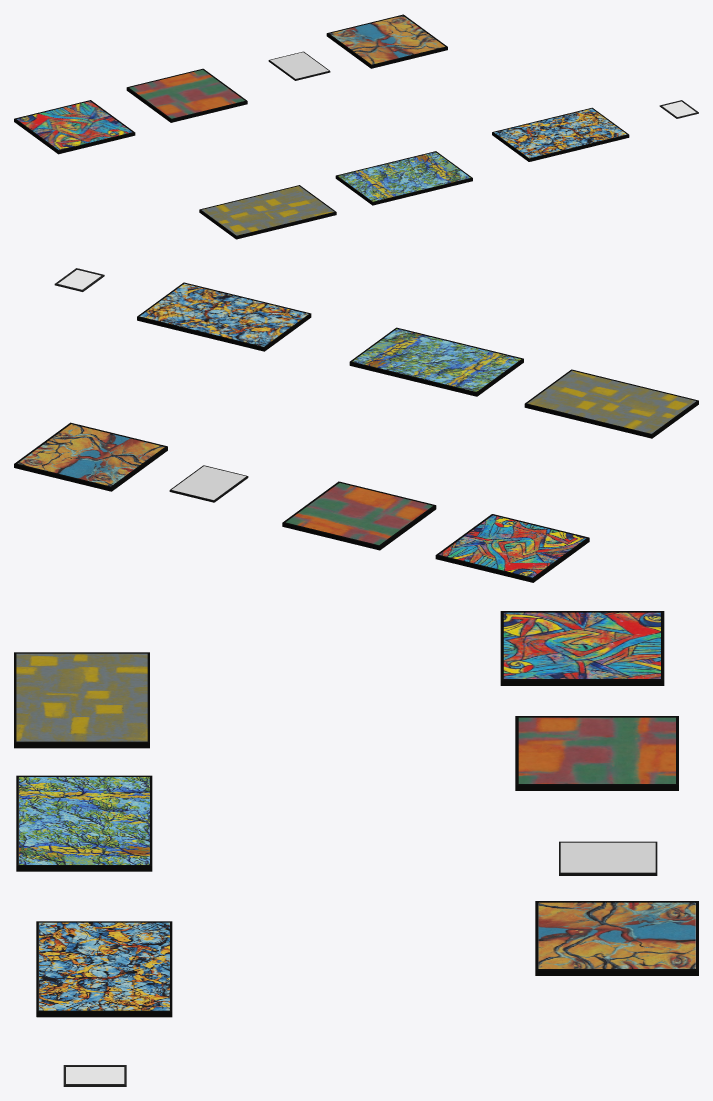
File: art_painting.fbx
3 renders of one model, top to bottom at view 1: azimuth 30°, elevation 25°; view 2: azimuth 150°, elevation 25°; view 3: azimuth 270°, elevation 25°, orthographic. The views are drawn at different scales.
Parts seen in each view (by area): view 1: painting.001, painting, painting.002, painting.003, painting.004, painting.005, Painting Pineapple 3, frame.001, frame, frame.002, frame.004, frame.003 (+2 smaller); view 2: painting, painting.002, painting.001, painting.003, painting.005, painting.004, Painting Pineapple 3, frame.002, frame.001, frame, frame.004, frame.003 (+2 smaller); view 3: painting, painting.002, painting.001, painting.003, painting.004, painting.005, Painting Pineapple 3, frame.003, frame.004, frame.005, frame.002, frame (+2 smaller).
Boxes of the visible parts, <box> form: painting.001: <box>338,152,470,201</box>; painting: <box>201,186,334,235</box>; painting.002: <box>494,108,626,158</box>; painting.003: <box>17,101,132,149</box>; painting.004: <box>129,69,244,118</box>; painting.005: <box>329,15,444,64</box>; Painting Pineapple 3: <box>268,51,330,80</box>; frame.001: <box>335,151,472,205</box>; frame: <box>199,185,336,239</box>; frame.002: <box>492,107,629,161</box>; frame.004: <box>126,68,247,122</box>; frame.003: <box>14,100,135,154</box>; painting: <box>527,370,695,433</box>; painting.002: <box>139,283,308,346</box>; painting.001: <box>352,329,520,391</box>; painting.003: <box>439,515,586,577</box>; painting.005: <box>17,424,164,486</box>; painting.004: <box>286,483,432,544</box>; Painting Pineapple 3: <box>169,465,248,502</box>; frame.002: <box>137,282,311,351</box>; frame.001: <box>349,327,523,396</box>; frame: <box>524,369,698,438</box>; frame.004: <box>282,481,436,550</box>; frame.003: <box>435,514,589,582</box>; painting: <box>16,653,147,741</box>; painting.002: <box>38,922,169,1010</box>; painting.001: <box>18,777,149,864</box>; painting.003: <box>503,612,660,678</box>; painting.004: <box>518,717,675,783</box>; painting.005: <box>538,902,695,968</box>; Painting Pineapple 3: <box>559,841,657,875</box>; frame.003: <box>500,611,664,685</box>; frame.004: <box>515,716,678,790</box>; frame.005: <box>535,901,698,975</box>; frame.002: <box>36,921,172,1017</box>; frame: <box>14,652,149,748</box>.
Bounding box in the file's own units: 707 × 4.3 × 435.
